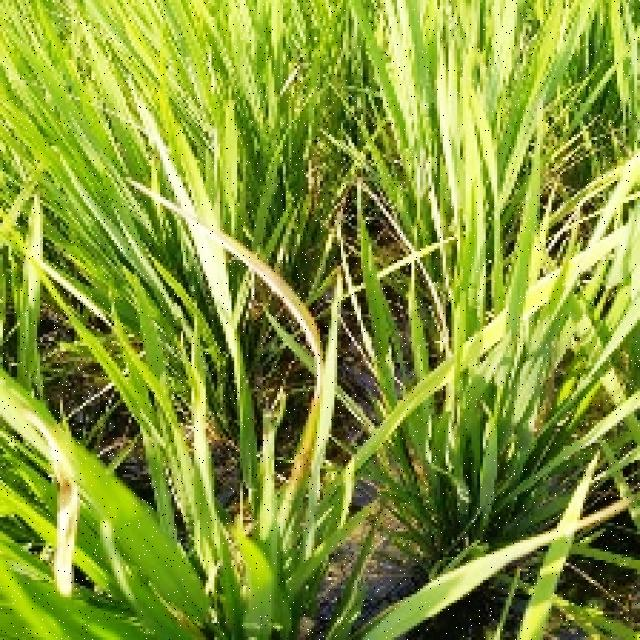health: (428, 175, 600, 515)
